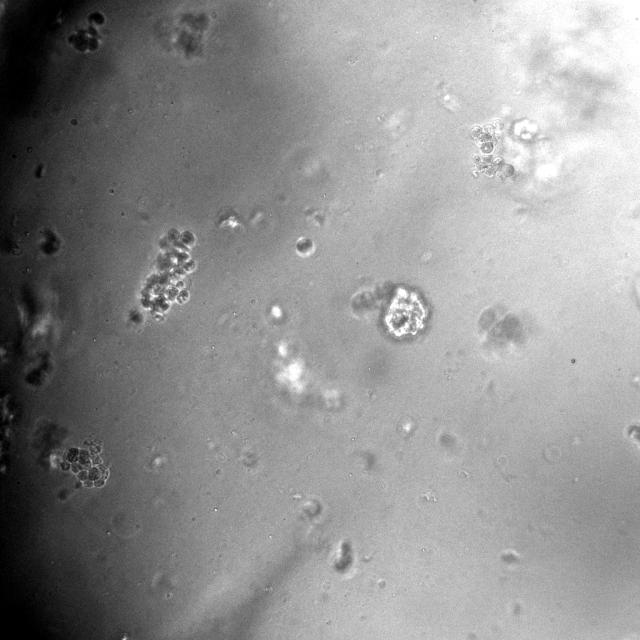organoid: (138, 229, 196, 320), (381, 285, 431, 341), (471, 118, 514, 180), (58, 441, 109, 488), (69, 11, 104, 52)
